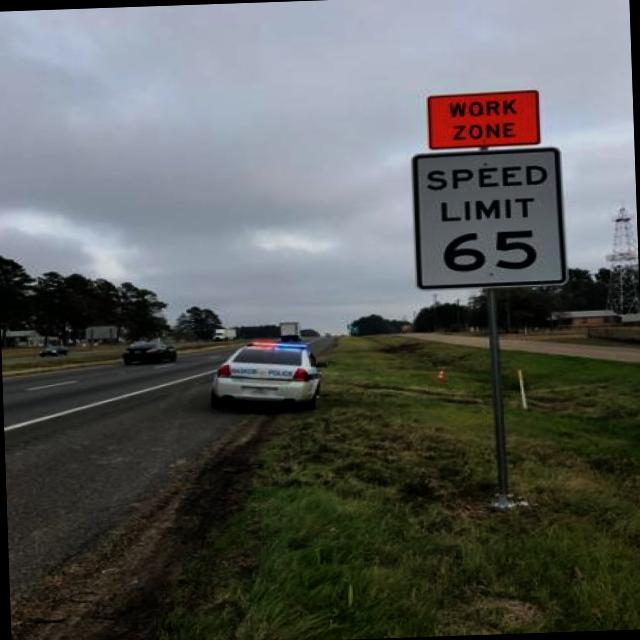Speed Limit Signs: (407, 145, 569, 292)
